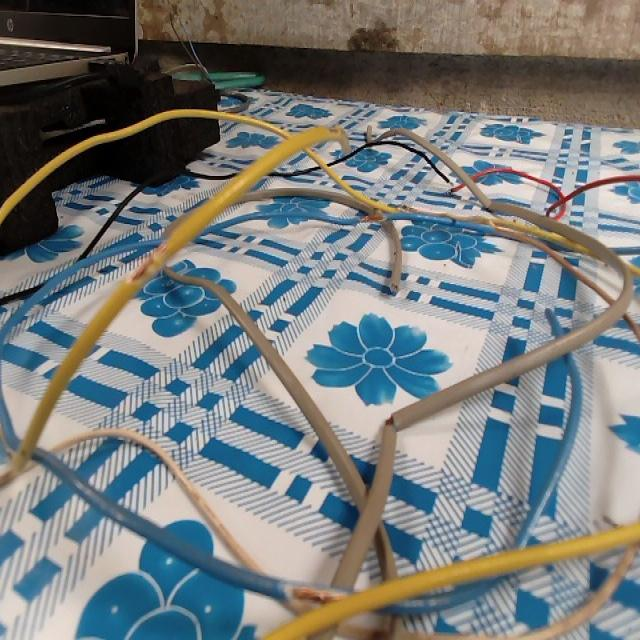-: (278, 577, 350, 611), (126, 236, 169, 285), (355, 208, 387, 225), (383, 409, 400, 432)
